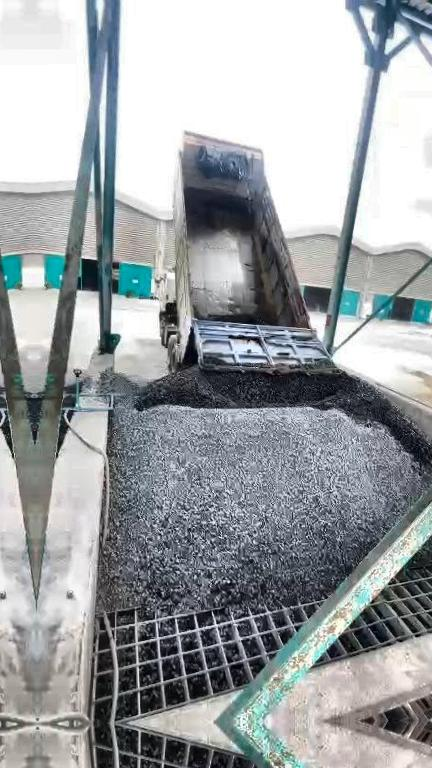gravel: (99, 382, 432, 611), (98, 355, 432, 460), (207, 235, 276, 324), (410, 531, 432, 565)
sand: (414, 371, 432, 409)
